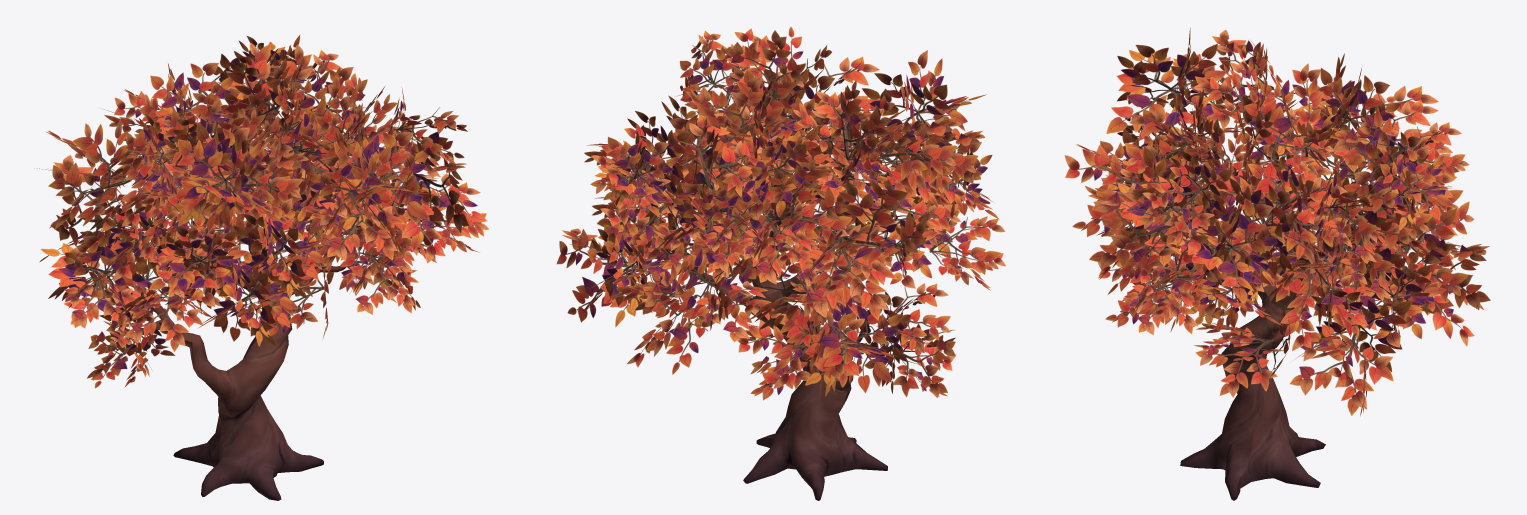
File: arvore-outono.glb
3 views of the same model, side by side, from view 1: azimuth 30°, elevation 25°; view 2: azimuth 150°, elevation 25°; view 3: azimuth 270°, elevation 25° (orthographic). The views are drawn at different scales.
Parts seen in each view (by area): view 1: Tr_01_Leaves_autumn_001, Tr_01_Stem_autumn_001; view 2: Tr_01_Leaves_autumn_001, Tr_01_Stem_autumn_001; view 3: Tr_01_Leaves_autumn_001, Tr_01_Stem_autumn_001.
Part boxes in pixels (x1,y1,x2,y2): Tr_01_Leaves_autumn_001: (34,35,488,388); Tr_01_Stem_autumn_001: (140,147,346,500); Tr_01_Leaves_autumn_001: (556,26,1005,400); Tr_01_Stem_autumn_001: (667,182,898,500); Tr_01_Leaves_autumn_001: (1064,28,1490,416); Tr_01_Stem_autumn_001: (1165,174,1345,500).
Bounding box in the file's own units: 4.34 × 4.27 × 4.15.
Materials: 2 (2 with a texture image).
